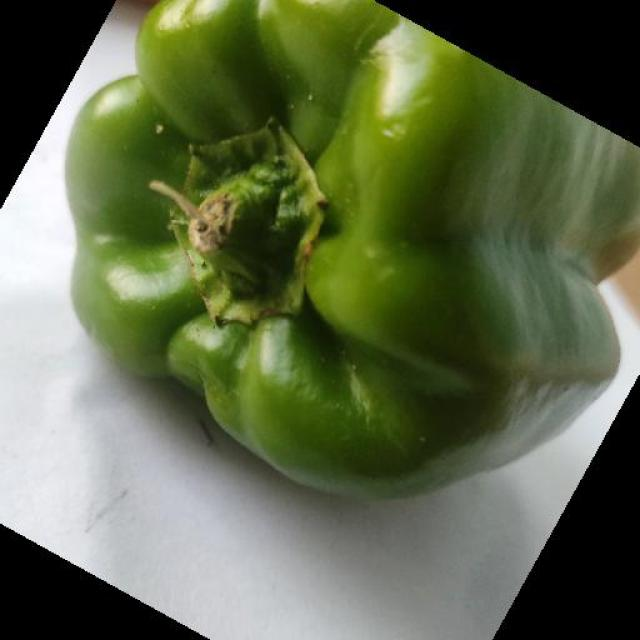Fresh_Capsicum: (83, 0, 640, 456)
